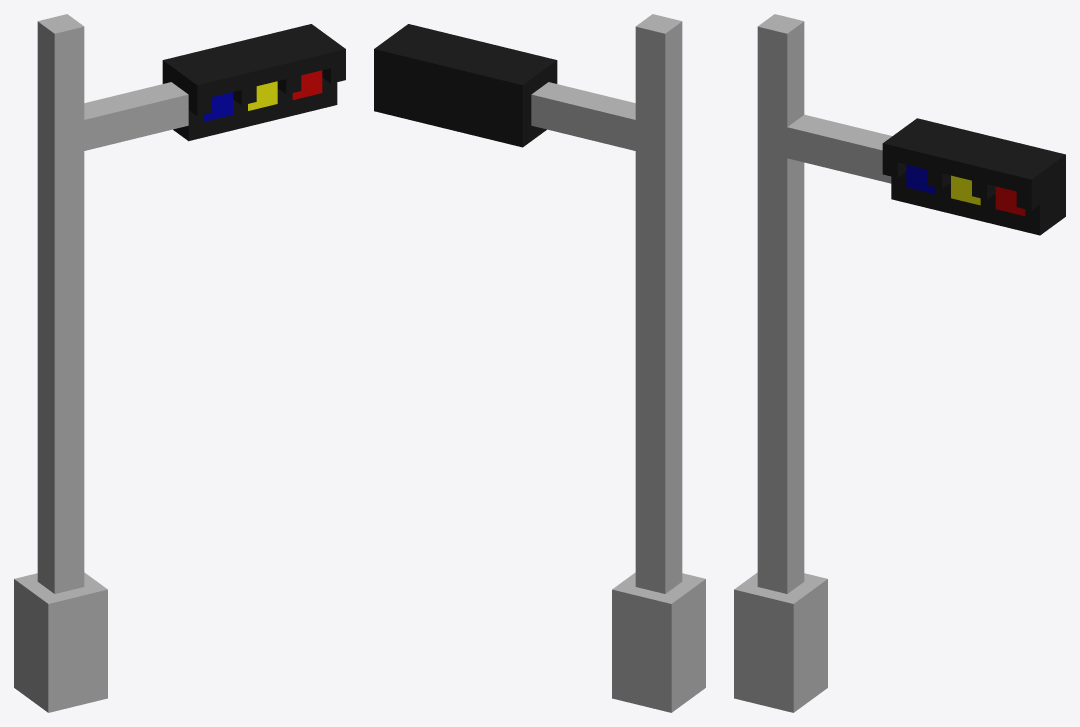
File: light.obj
The picture shows the model from 3 angles, left to right: view 1: azimuth 30°, elevation 25°; view 2: azimuth 150°, elevation 25°; view 3: azimuth 330°, elevation 25°; orthographic projection.
Visible parts, largest first — view 1: 立方体.001; view 2: 立方体.001; view 3: 立方体.001.
Part boxes in pixels (x1,y1,x2,y2): 立方体.001: (14,14,345,712); 立方体.001: (374,14,705,712); 立方体.001: (734,14,1065,712).
Bounding box in the file's own units: 20 × 43 × 4.
